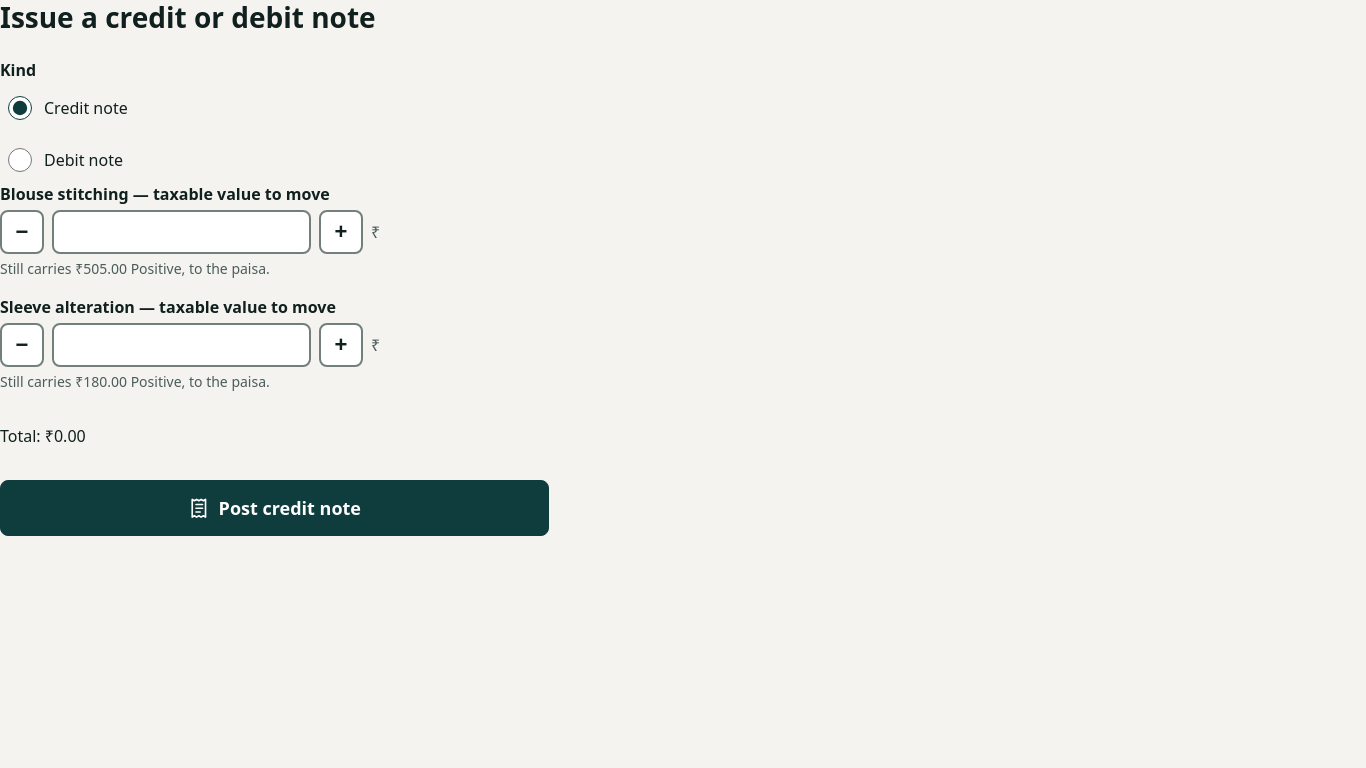
Test: issuing a credit or debit note (#354) › posts a debit note to the debit route, with no ceiling on the line
This screenshot has width=1366, height=768.
Expected: the radio button labelled "Credit note" is shown, [8, 96, 32, 120]
Click the radio button labelled "Debit note".
click(20, 160)  # box [8, 148, 32, 172]
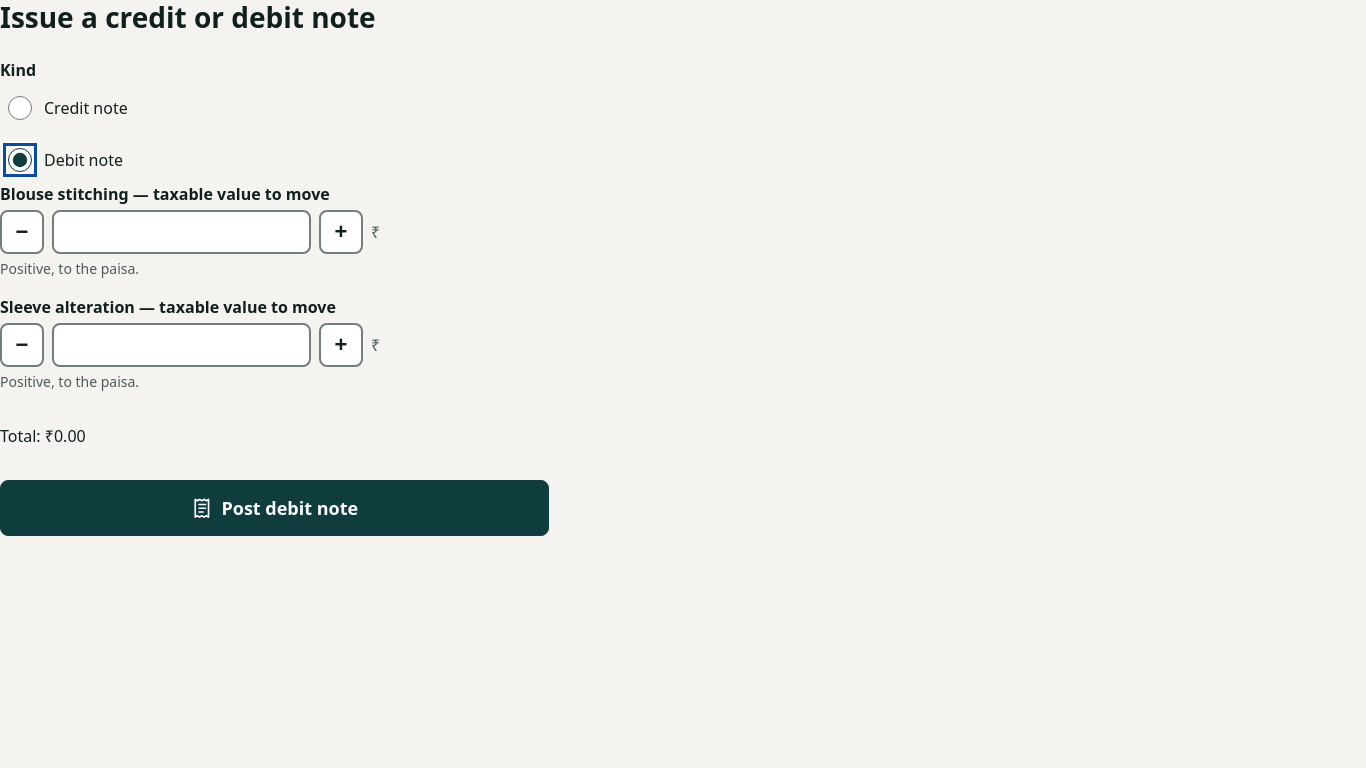
Well past the line's own taxable value of 505 — a debit note carries no ceiling.
Type "900" into the field labelled "Blouse stitching — taxable value to move".
click(182, 232); type("900")  # box [52, 210, 311, 254]
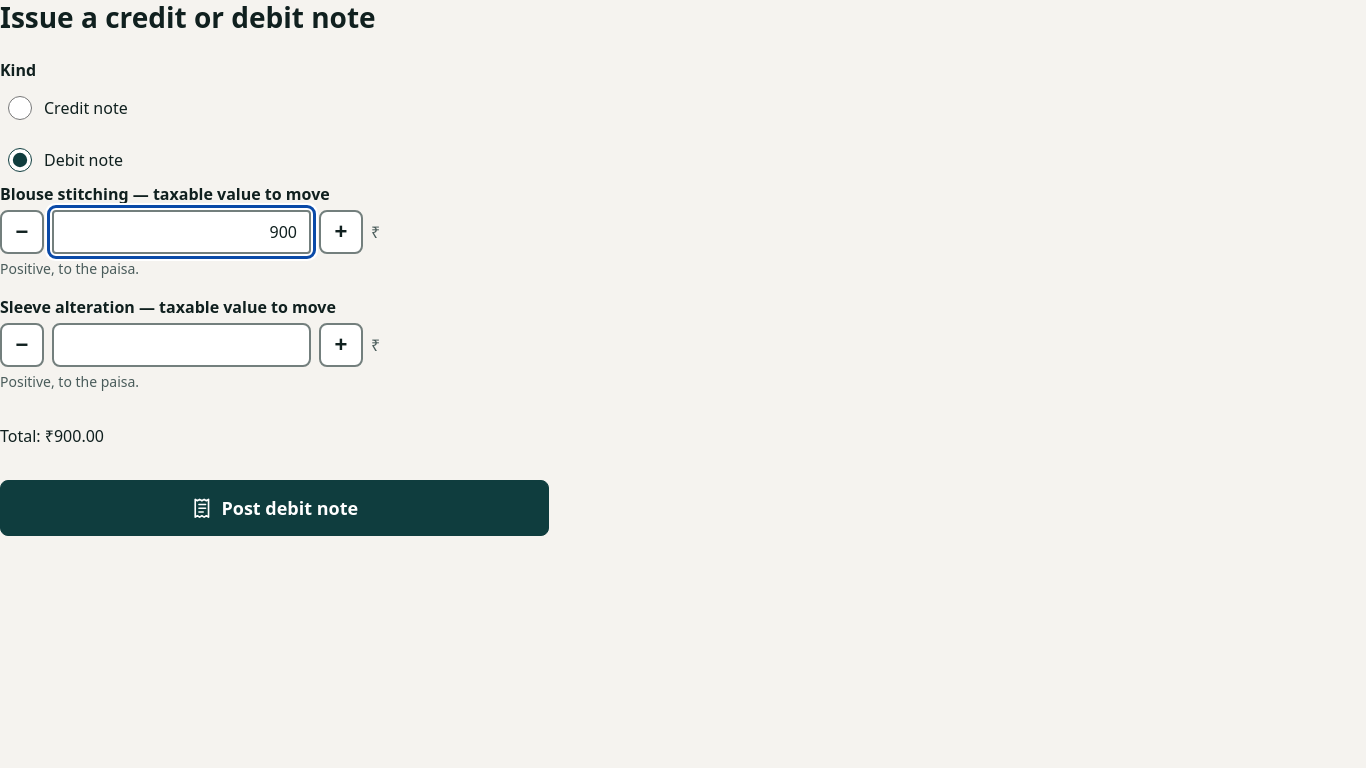
Click the button "Post debit note".
click(275, 508)  # box [0, 480, 549, 536]
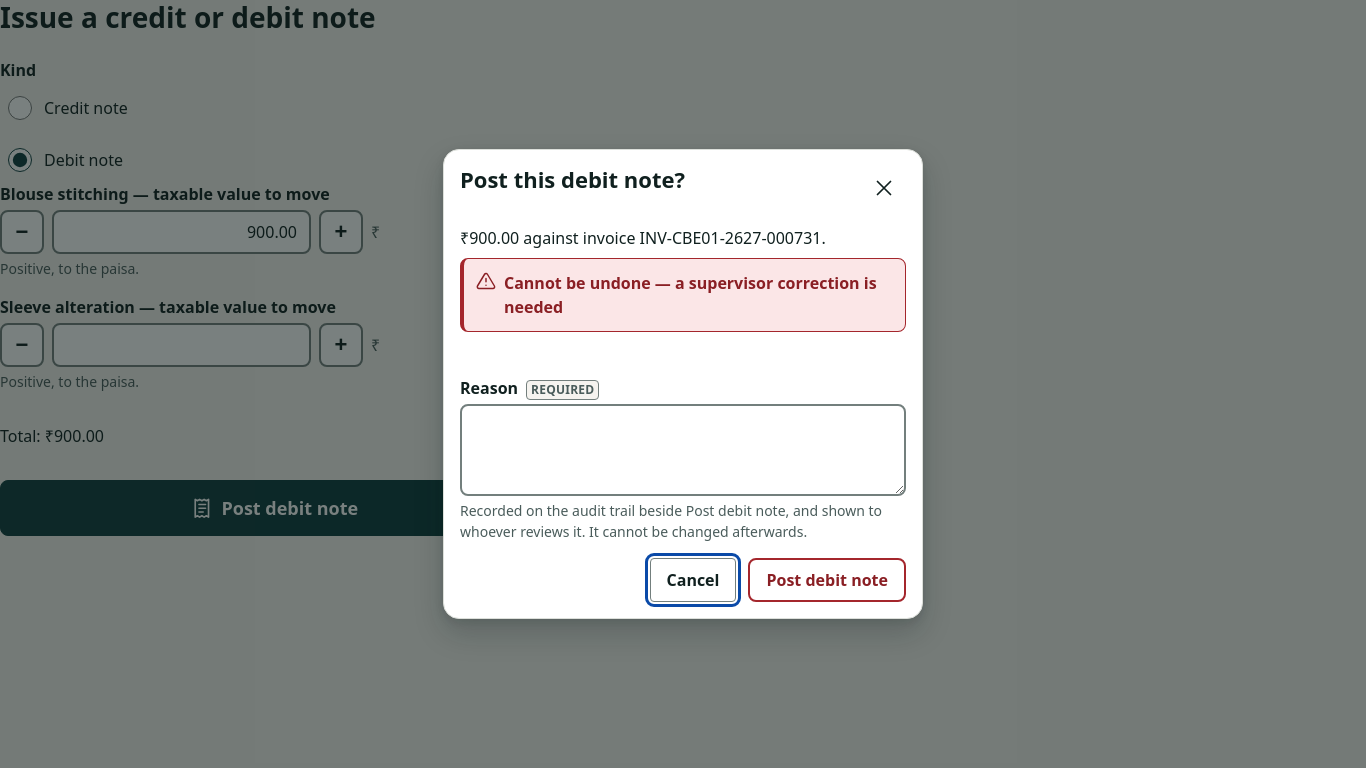
Type "Extra alteration." into the text box labelled "Reason".
click(683, 450); type("Extra alteration.")  # box [460, 404, 906, 496]
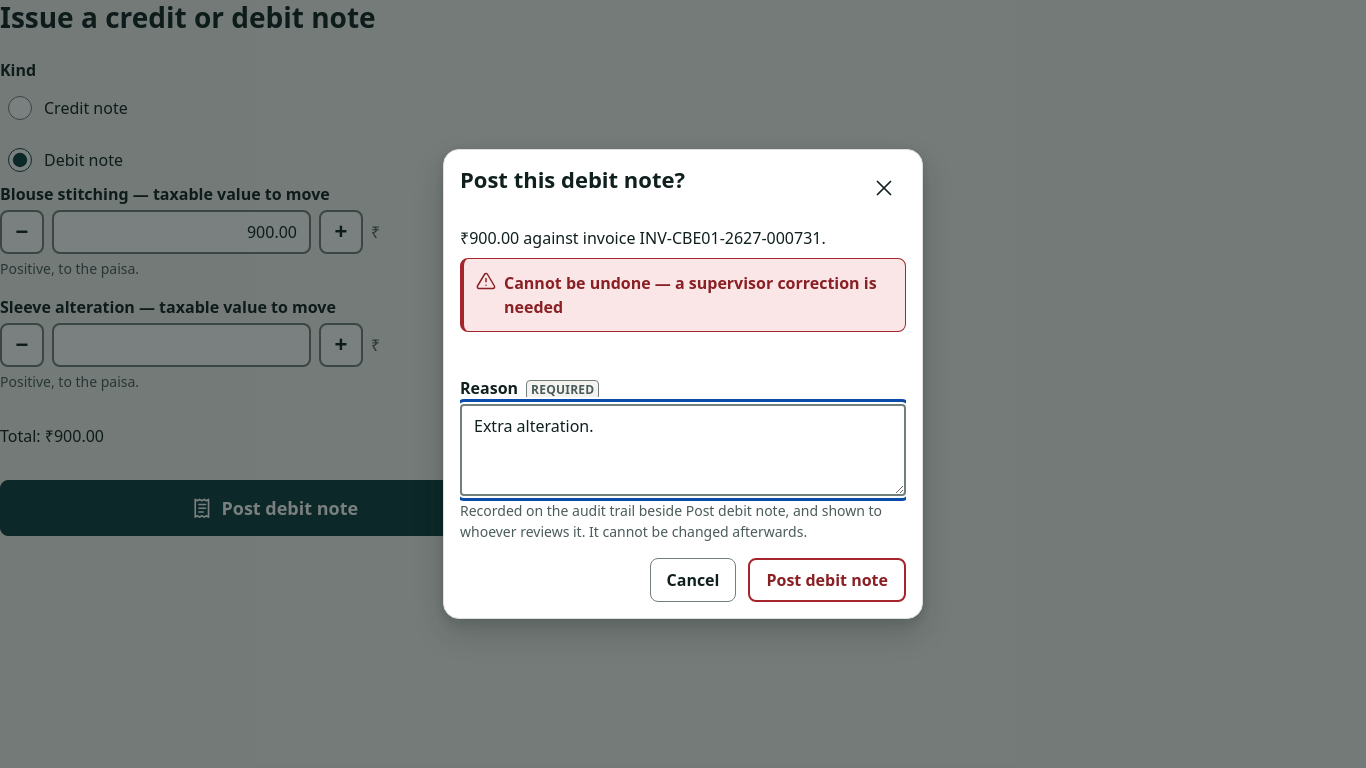
Click the button "Post debit note".
click(827, 580)  # box [748, 558, 906, 602]
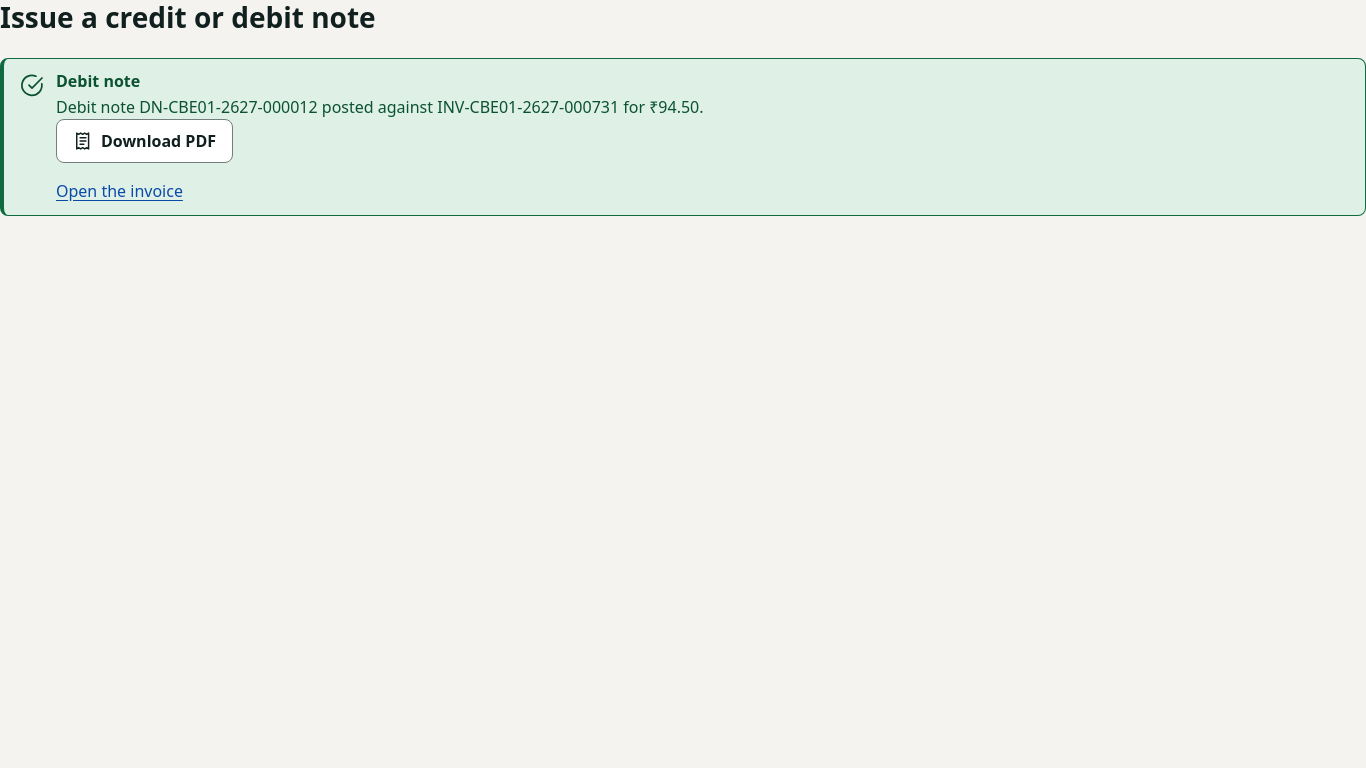
Expected: the text "Debit note DN-CBE01-2627-000012 posted against INV-CBE01-2627-000731 for ₹94.50." is shown, [56, 96, 704, 118]
